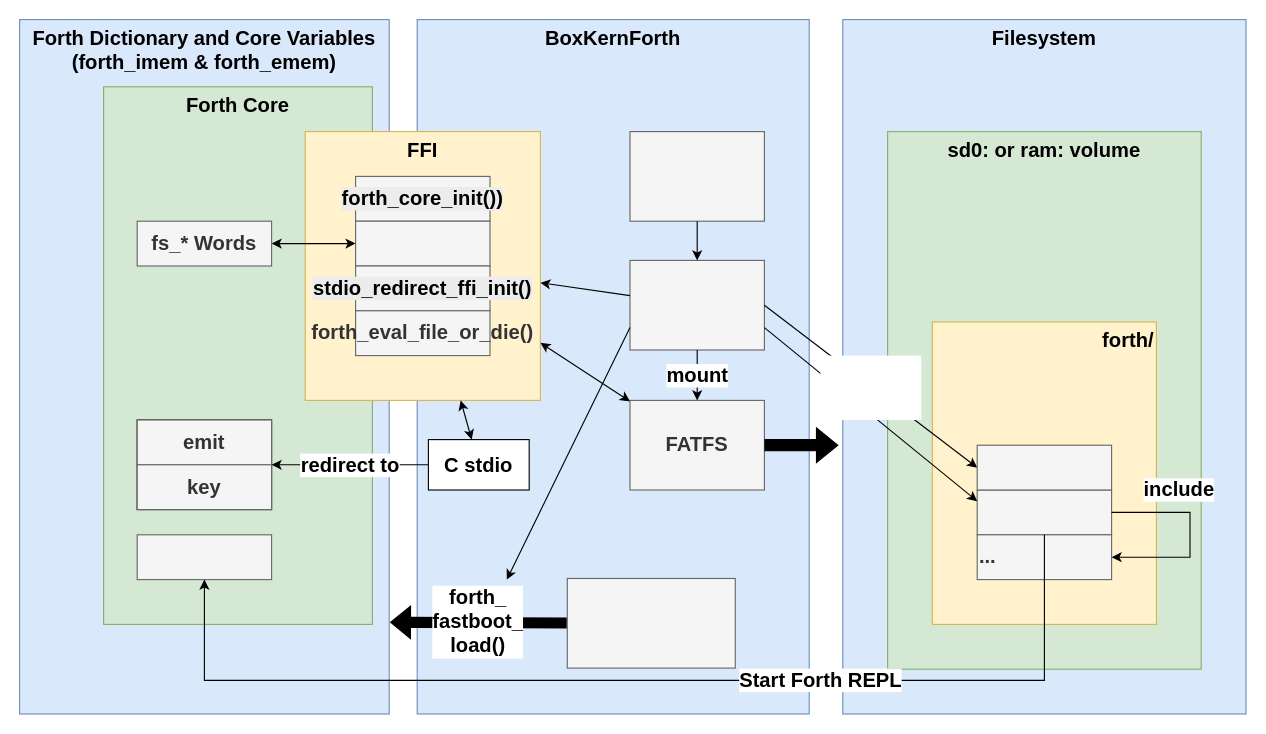
The diagram is 1266 pixels wide and 734 high, and some of its shapes have lost their labels. Here are the shapes that lost their labels. From the top down, the centre of each, then its label:
At (x=696, y=175): "crt0".
At (x=422, y=243): "fs_ffi_init()".
At (x=696, y=304): "main()".
At (x=870, y=387): "Forth Evaluate".
At (x=1044, y=467): "early.fs".
At (x=1044, y=512): "init.fs".
At (x=204, y=557): "quit".
At (x=650, y=622): "boxkern_forth_ img".
